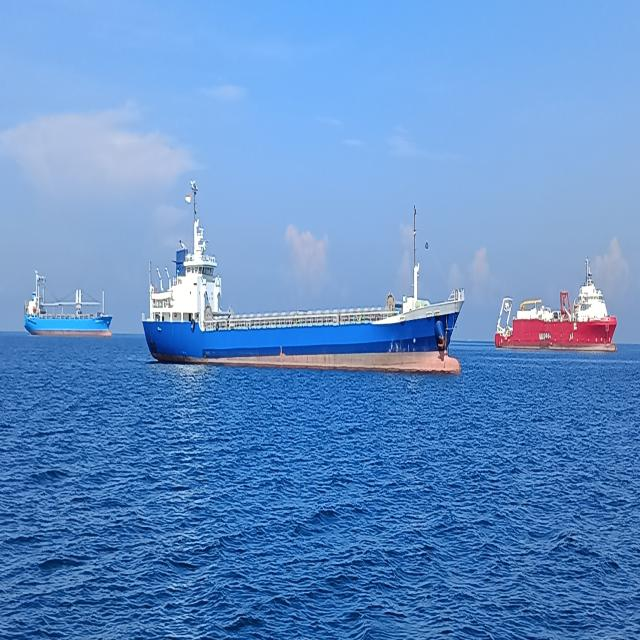PassengerShip: (136, 99, 460, 448)
